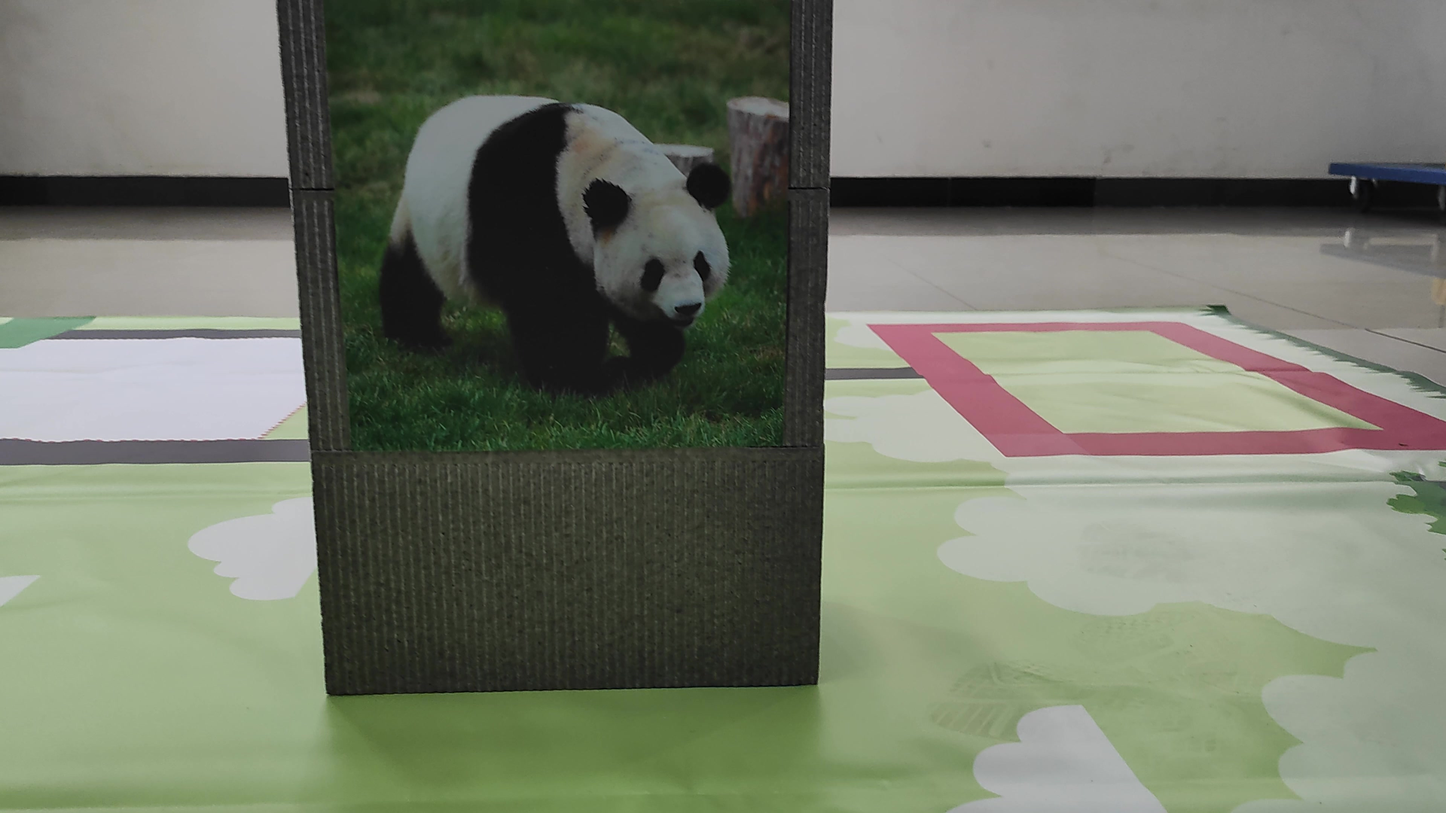panda: (372, 90, 754, 400)
